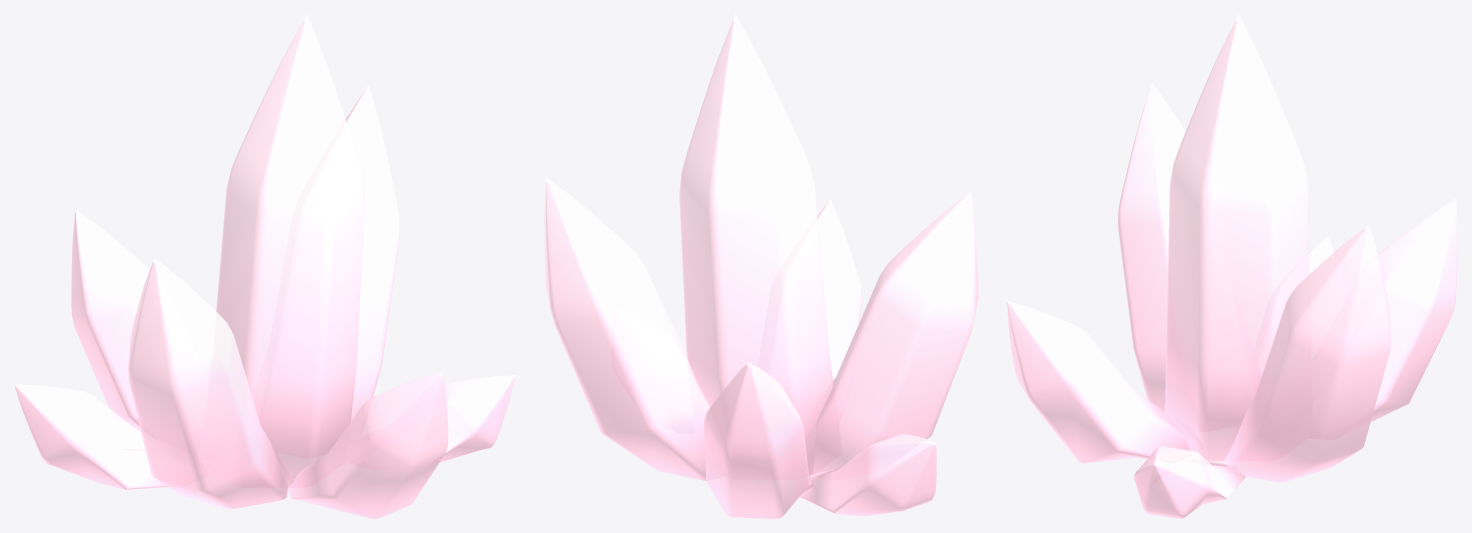
File: crystal-pink.glb
3 renders of one model, left to right at view 1: azimuth 30°, elevation 25°; view 2: azimuth 150°, elevation 25°; view 3: azimuth 270°, elevation 25°, orthographic.
Parts seen in each view (by area): view 1: crystal-pink; view 2: crystal-pink; view 3: crystal-pink.
Part boxes in pixels (x1,y1,x2,y2): crystal-pink: [14, 14, 515, 518]; crystal-pink: [544, 14, 978, 518]; crystal-pink: [1007, 14, 1457, 518].
Bounding box in the file's own units: 1.88 × 1.9 × 1.78.
